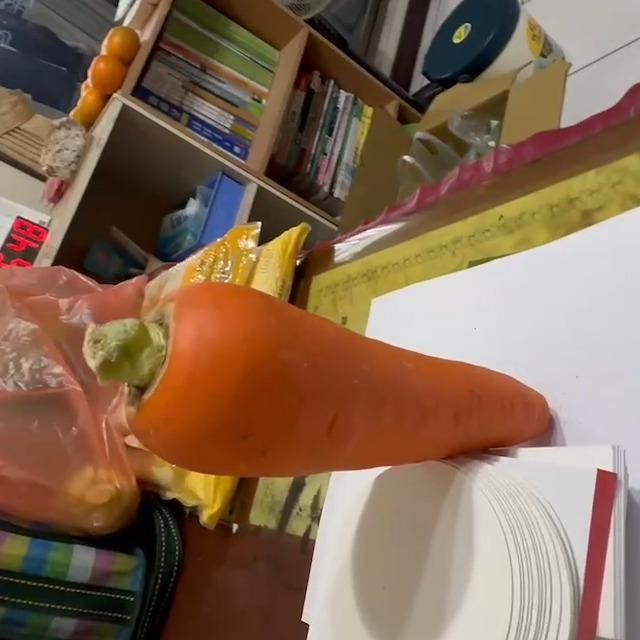carrot: (85, 285, 554, 481)
